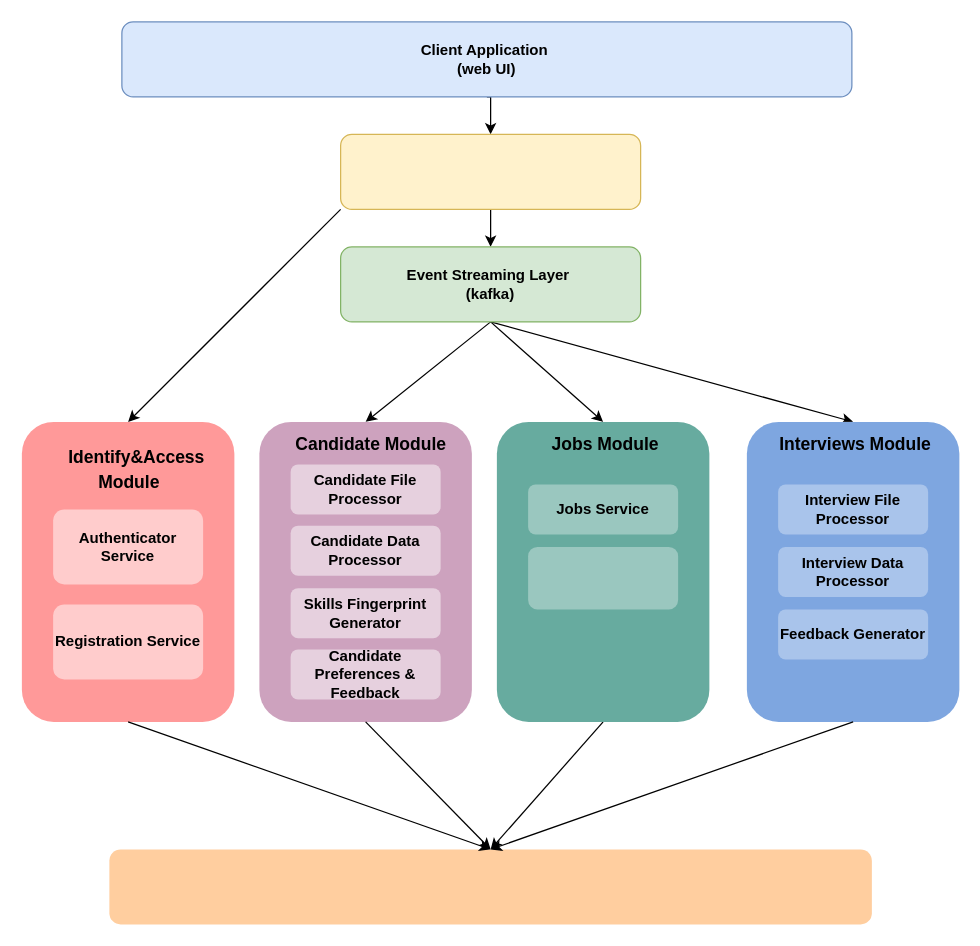
The diagram is 980 pixels wide and 946 high, and some of its shapes have lost their labels. The shapes that lost their labels are listed below. From the top down, each one's box as (x1, y1, x2, y2) in pixels, then its label:
(339, 133, 641, 209): API Gateway
(528, 546, 678, 609): Matchings & Recommandations Service
(109, 849, 871, 924): Data Layer MongoDB, Object Storage, Vector DB
